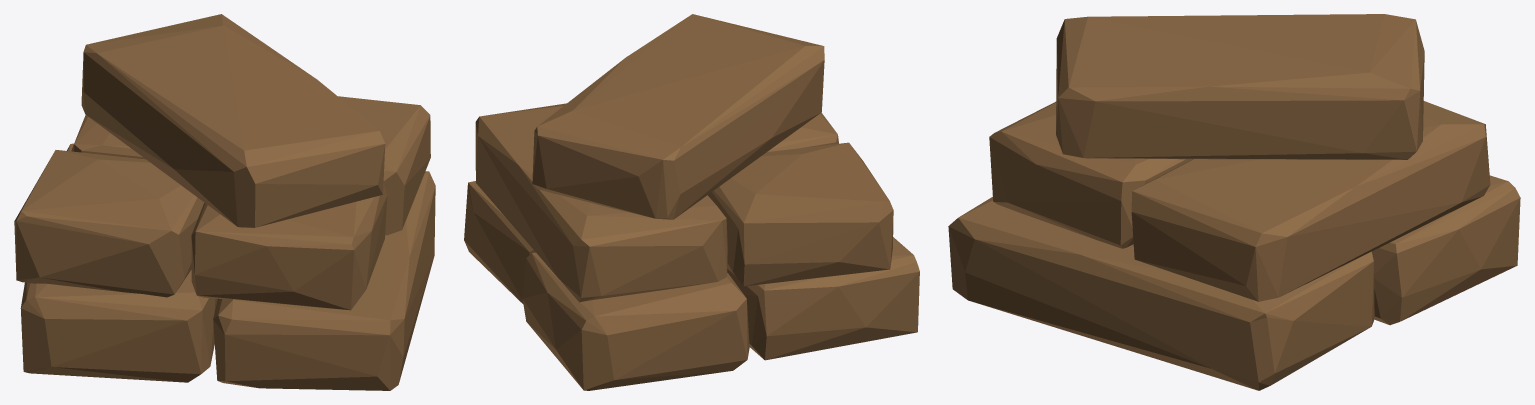
Rendered from LPWarPack_SandBags1.fbx.
The picture shows the model from 3 angles, left to right: view 1: azimuth 30°, elevation 25°; view 2: azimuth 150°, elevation 25°; view 3: azimuth 270°, elevation 25°; orthographic projection. The views are drawn at different scales.
Parts seen in each view (by area): view 1: SandBags1; view 2: SandBags1; view 3: SandBags1.
Boxes of the visible parts, x1,y1,x2,y2 form: SandBags1: [14, 14, 435, 390]; SandBags1: [464, 14, 919, 390]; SandBags1: [948, 14, 1520, 390].
Bounding box in the file's own units: 93.06 × 45.93 × 97.92.
